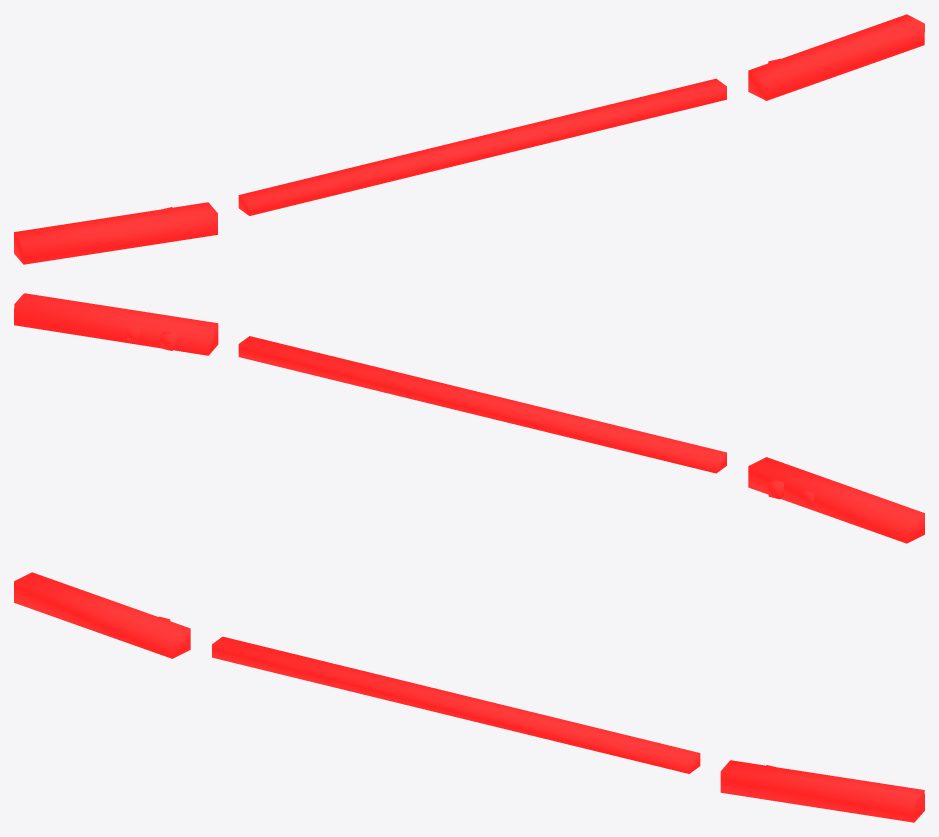
The model's file is taillight_lightbar_oled.glb.
The picture shows the model from 3 angles, top to bottom: view 1: azimuth 30°, elevation 25°; view 2: azimuth 150°, elevation 25°; view 3: azimuth 330°, elevation 25°; orthographic projection.
Visible parts, largest first — view 1: GEO_Taillight_Lightbar_OLED; view 2: GEO_Taillight_Lightbar_OLED; view 3: GEO_Taillight_Lightbar_OLED.
Boxes of the visible parts, x1,y1,x2,y2 form: GEO_Taillight_Lightbar_OLED: (14,14,924,264); GEO_Taillight_Lightbar_OLED: (14,293,924,543); GEO_Taillight_Lightbar_OLED: (14,572,924,822).
Bounding box in the file's own units: 1.6 × 0.0368 × 0.0981.
